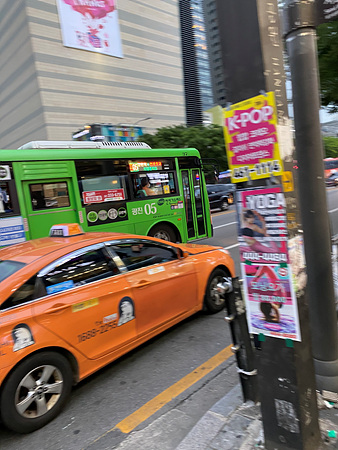entrance: (178, 164, 207, 239)
